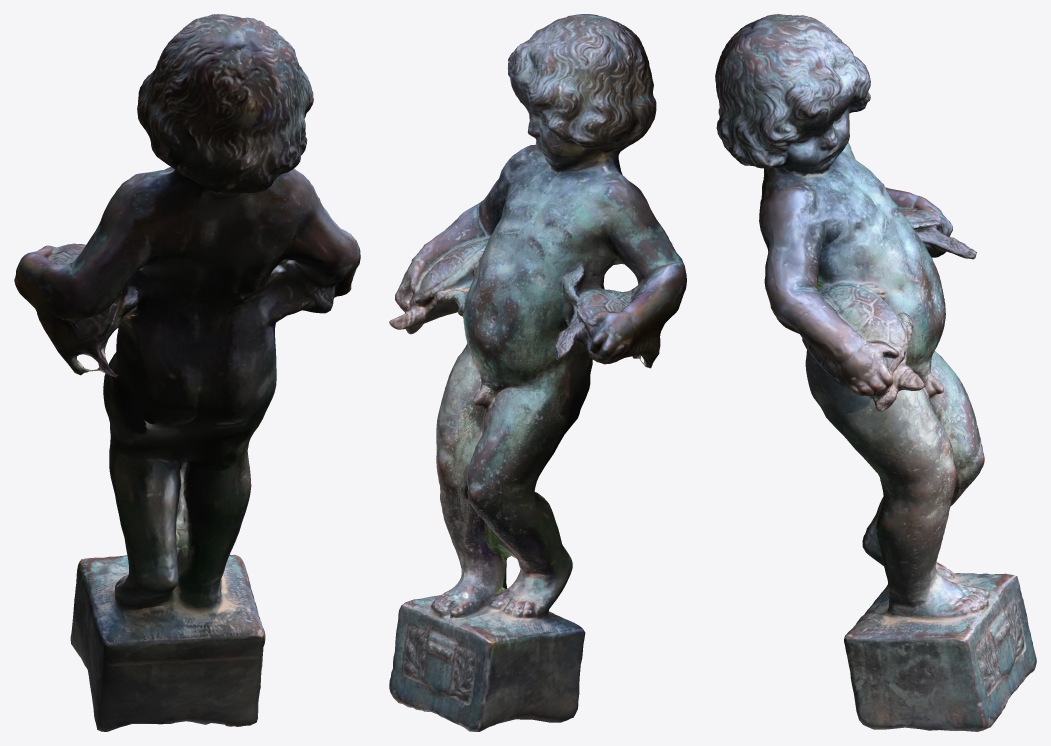
3 views of the same model, side by side, from view 1: azimuth 30°, elevation 25°; view 2: azimuth 150°, elevation 25°; view 3: azimuth 270°, elevation 25° (orthographic). The views are drawn at different scales.
Visible parts, largest first — view 1: 6cc7a785-bc06-4ad1-8bb2-ba5755c0a9ba_0; view 2: 6cc7a785-bc06-4ad1-8bb2-ba5755c0a9ba_0; view 3: 6cc7a785-bc06-4ad1-8bb2-ba5755c0a9ba_0.
Part boxes in pixels (left/top/right/bottom): 6cc7a785-bc06-4ad1-8bb2-ba5755c0a9ba_0: left=14, top=14, right=360, bottom=731; 6cc7a785-bc06-4ad1-8bb2-ba5755c0a9ba_0: left=389, top=14, right=686, bottom=731; 6cc7a785-bc06-4ad1-8bb2-ba5755c0a9ba_0: left=715, top=14, right=1036, bottom=731.
Bounding box in the file's own units: 0.5388 × 1.24 × 0.5349.
Materials: 1 (1 with a texture image).
